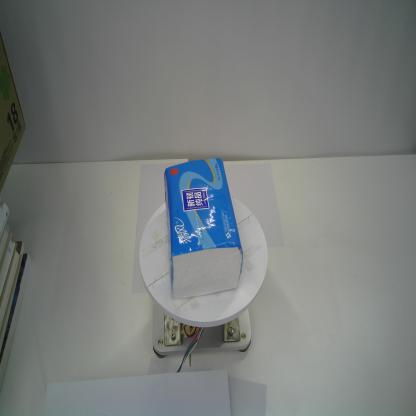Tissue: (162, 156, 244, 301)
